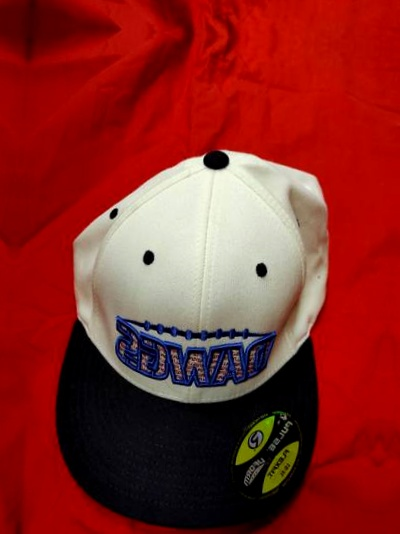Hat: (8, 111, 352, 534), (0, 86, 9, 527)
